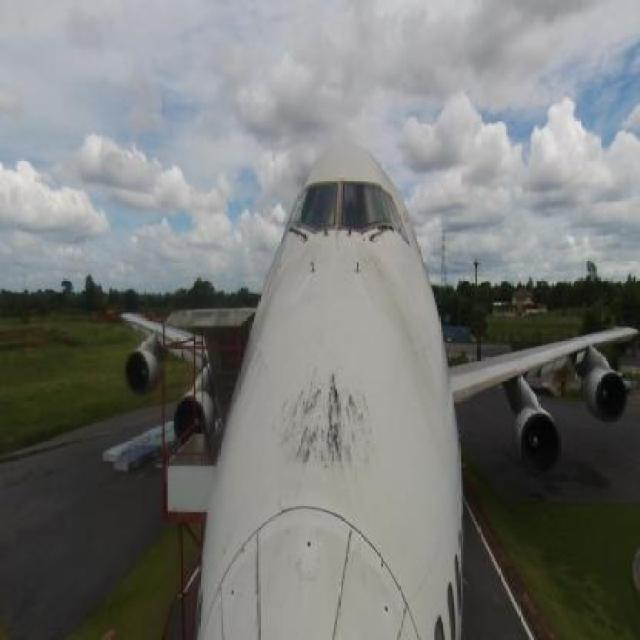Rust: (276, 370, 395, 484), (360, 257, 434, 428), (264, 489, 288, 517)
